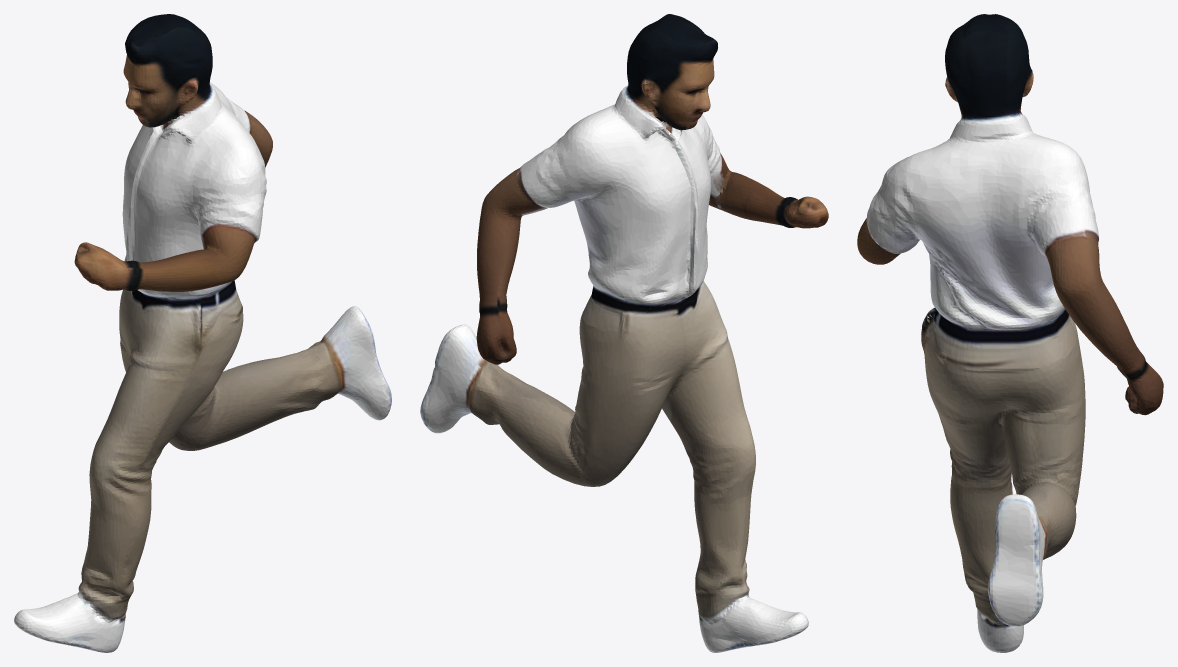
Rendered from run_1.glb.
The picture shows the model from 3 angles, left to right: view 1: azimuth 30°, elevation 25°; view 2: azimuth 150°, elevation 25°; view 3: azimuth 270°, elevation 25°; orthographic projection. The views are drawn at different scales.
Visible parts, largest first — view 1: tmpazpw8v8a.ply; view 2: tmpazpw8v8a.ply; view 3: tmpazpw8v8a.ply.
Part boxes in pixels (x1,y1,x2,y2): tmpazpw8v8a.ply: (14, 14, 391, 652); tmpazpw8v8a.ply: (420, 14, 828, 652); tmpazpw8v8a.ply: (857, 14, 1163, 652).
Size of the model in its own units: 1.26 by 1.99 by 0.8387.
Materials: 1 (1 with a texture image).
